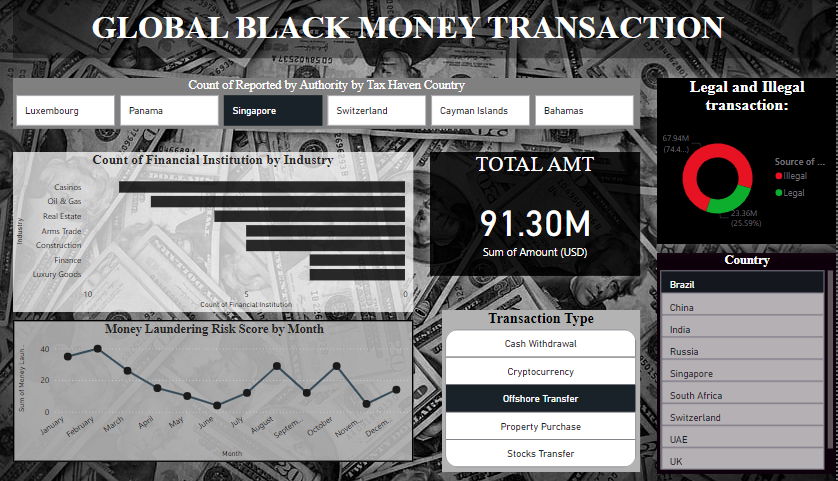

This screenshot's page, from the dashboard's own definition file:
{"tool":"powerbi","page":{"name":"dashboard","canvas":[1280,720],"ordinal":0},"visuals":[{"type":"advancedSlicerVisual","fields":{"Values":["Big_Black_Money_Dataset.Country"]},"box":[1011.3,377.9,268.9,330.1],"z":0},{"type":"donutChart","title":"Legal and Illegal transaction:","fields":{"Category":["Big_Black_Money_Dataset.Source of Money"],"Y":["Sum(Big_Black_Money_Dataset.Amount (USD))"]},"box":[1011.3,116.5,268.9,248],"z":1000},{"type":"card","title":"TOTAL AMT","fields":{"Values":["Sum(Big_Black_Money_Dataset.Amount (USD))"]},"box":[672.2,240.5,313.7,185.2],"z":2000},{"type":"advancedSlicerVisual","fields":{"Values":["Big_Black_Money_Dataset.Tax Haven Country"]},"box":[49.3,116.5,936.6,76.2],"z":3000},{"type":"textbox","box":[49.3,0,1193.5,86.6],"z":4000},{"type":"barChart","fields":{"Category":["Big_Black_Money_Dataset.Industry"],"Y":["CountNonNull(Big_Black_Money_Dataset.Financial Institution)"]},"box":[49.3,227.1,597.5,239],"z":5000},{"type":"lineChart","title":"Money Laundering Risk Score by Month","fields":{"Y":["Sum(Big_Black_Money_Dataset.Money Laundering Risk Score)"],"Category":["Big_Black_Money_Dataset.Date of Transaction.1.Variation.Date Hierarchy.Month"]},"box":[49.3,478,597.5,212.1],"z":6000},{"type":"advancedSlicerVisual","fields":{"Values":["Big_Black_Money_Dataset.Transaction Type"]},"box":[690.1,463.1,295.8,242],"z":7000}]}

Visuals, with their boxes in screenshot pixels (x1, y1, x2, y2), scaled from the page's 1280x720 canvas onto the 838x481 screenshot:
advancedSlicerVisual - Big_Black_Money_Dataset.Country: 662/252/837/473
"Legal and Illegal transaction:" donutChart: 662/78/837/244
"TOTAL AMT" card: 440/161/645/284
advancedSlicerVisual - Big_Black_Money_Dataset.Tax Haven Country: 32/78/645/129
textbox: 32/0/814/58
barChart - Big_Black_Money_Dataset.Industry x CountNonNull(Big_Black_Money_Dataset.Financial Institution): 32/152/423/311
"Money Laundering Risk Score by Month" lineChart: 32/319/423/461
advancedSlicerVisual - Big_Black_Money_Dataset.Transaction Type: 452/309/645/471
